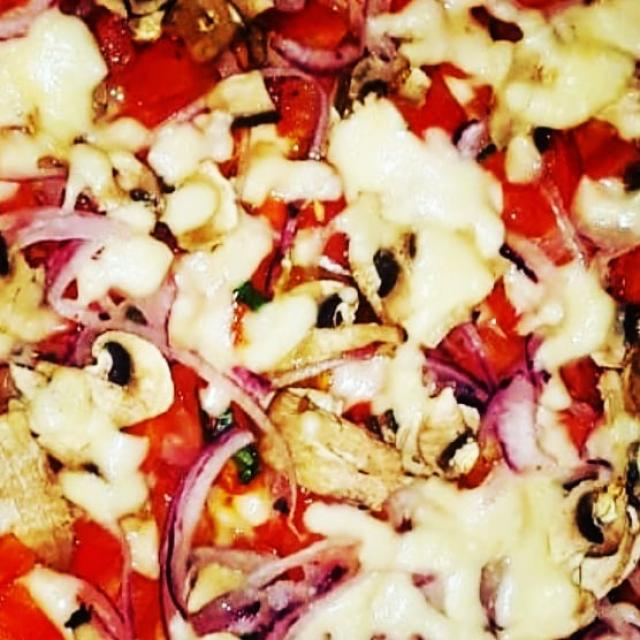mushrooms: (258, 387, 406, 513), (84, 330, 177, 427), (348, 206, 418, 311), (420, 389, 486, 491), (564, 462, 616, 562), (288, 282, 365, 344), (348, 48, 414, 106), (212, 73, 284, 123), (105, 151, 163, 203)
pizza: (0, 0, 640, 640)
tomatoes: (140, 366, 208, 496), (389, 56, 489, 138), (490, 142, 574, 236), (444, 288, 523, 377), (118, 47, 208, 116), (0, 541, 51, 640), (258, 486, 322, 559), (66, 509, 125, 585), (282, 70, 330, 160), (567, 122, 636, 176), (129, 571, 179, 640), (278, 0, 349, 48)
